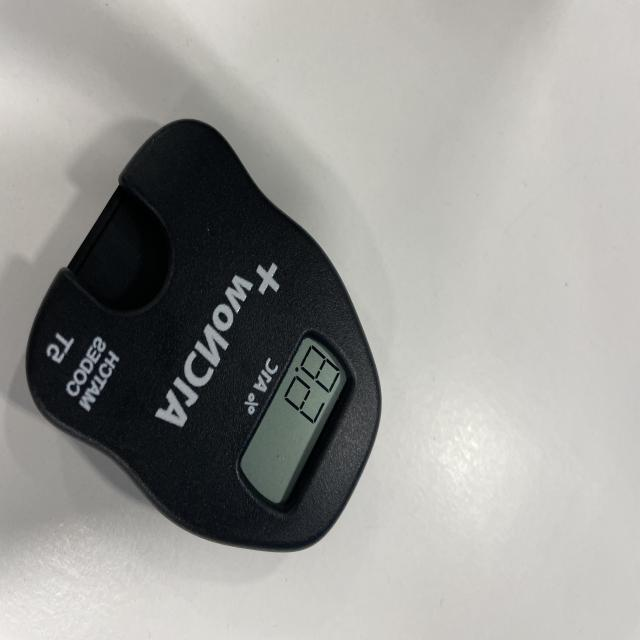hba1c: (24, 119, 383, 556)
